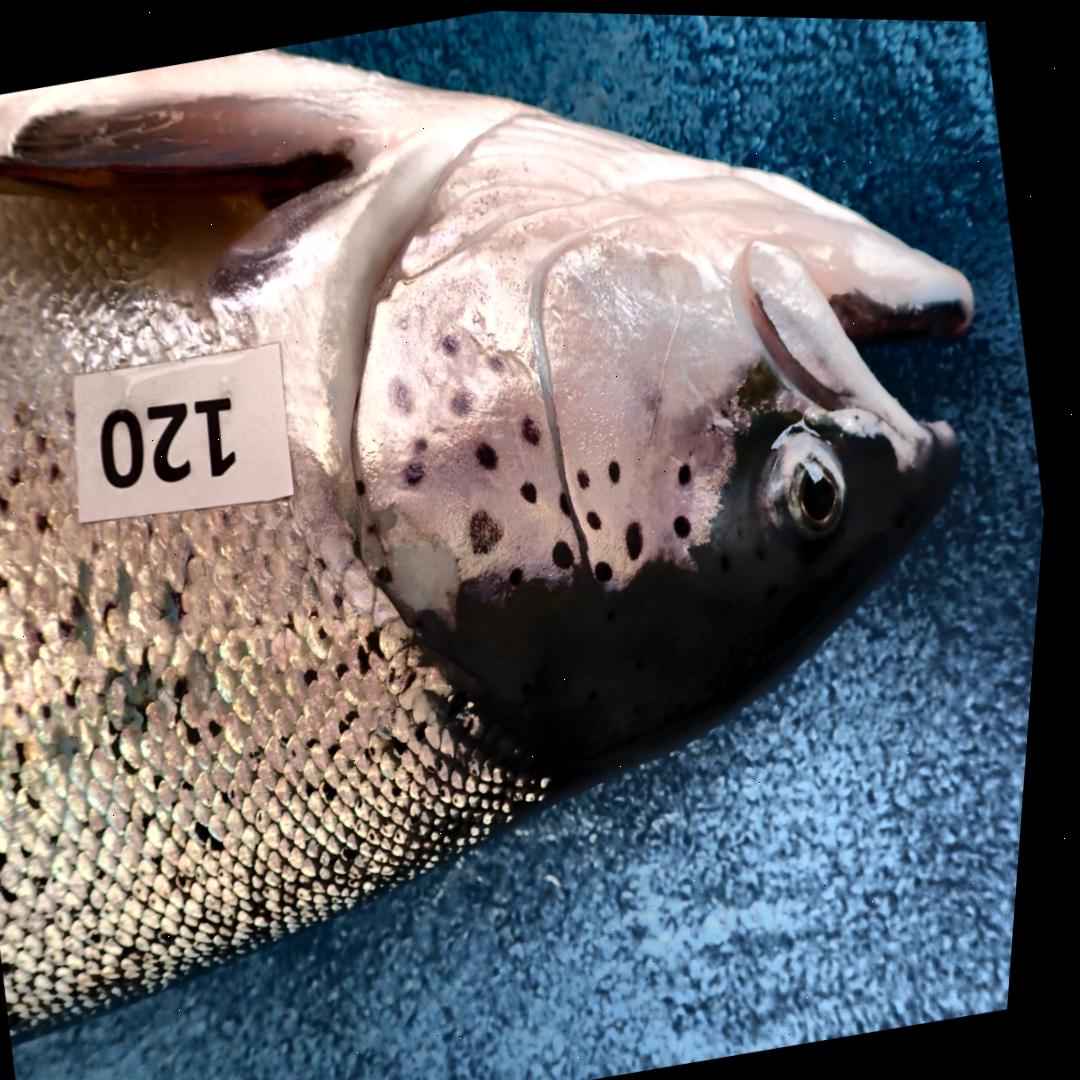spot: (475, 507, 509, 553), (393, 375, 418, 411), (633, 518, 650, 558), (559, 538, 582, 567), (482, 440, 504, 467), (527, 413, 546, 443), (409, 460, 431, 485), (456, 389, 477, 414), (680, 512, 698, 535), (444, 332, 462, 355), (494, 351, 513, 371), (603, 557, 621, 578), (527, 478, 543, 501), (384, 563, 401, 581), (566, 488, 577, 514), (594, 507, 608, 527), (517, 564, 530, 585), (615, 458, 627, 480), (684, 460, 697, 480), (583, 466, 596, 486), (420, 434, 434, 452), (361, 476, 372, 494)
